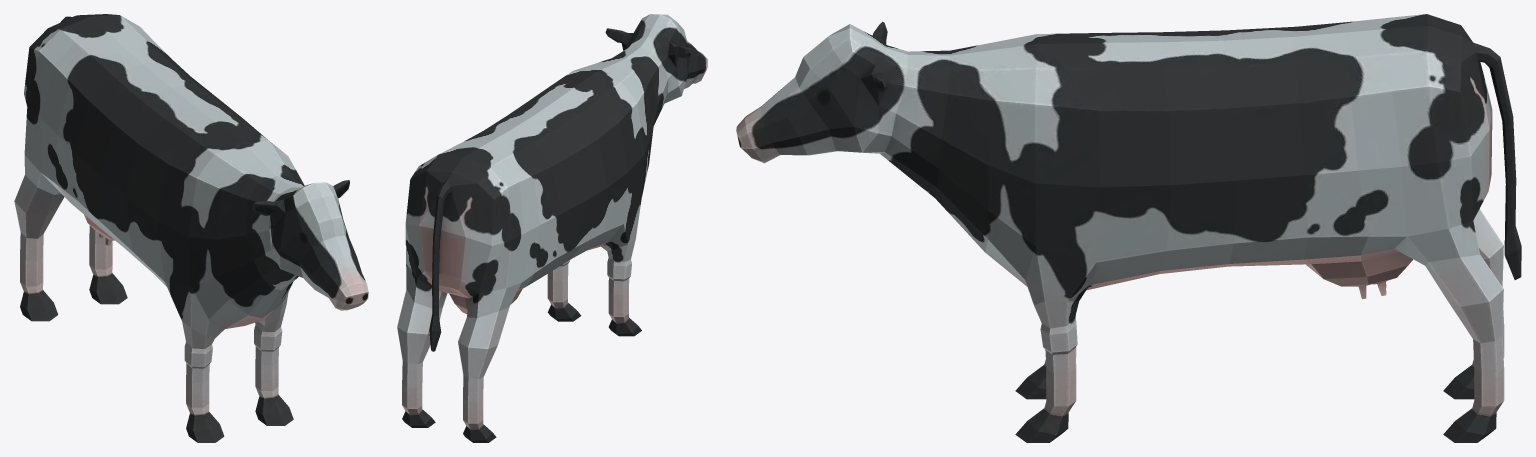
Rendered from cow.glb.
The picture shows the model from 3 angles, left to right: view 1: azimuth 30°, elevation 25°; view 2: azimuth 150°, elevation 25°; view 3: azimuth 270°, elevation 25°; orthographic projection. The views are drawn at different scales.
Visible parts, largest first — view 1: Cow_mesh; view 2: Cow_mesh; view 3: Cow_mesh.
Part boxes in pixels (left/top/right/bottom): Cow_mesh: left=14, top=14, right=368, bottom=442; Cow_mesh: left=397, top=14, right=707, bottom=442; Cow_mesh: left=736, top=14, right=1521, bottom=442.
Size of the model in its own units: 3.36 by 7.42 by 13.65.
1 material, 1 textured.
